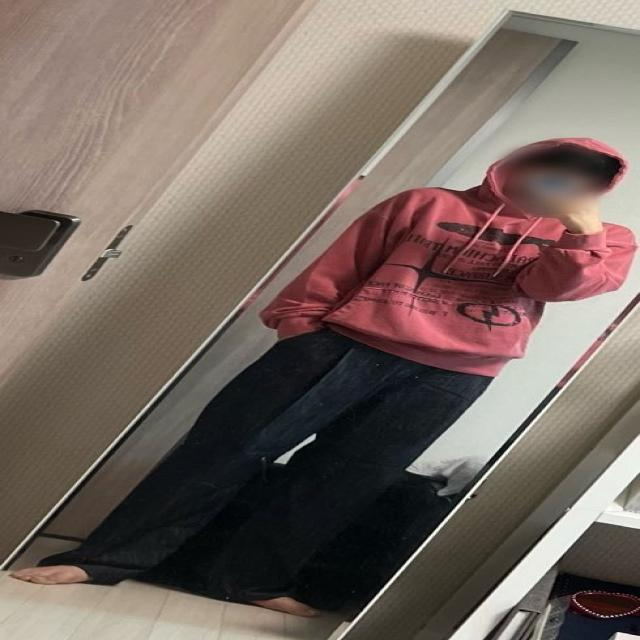hoodies: (257, 132, 640, 383)
slacks: (39, 318, 494, 600)
